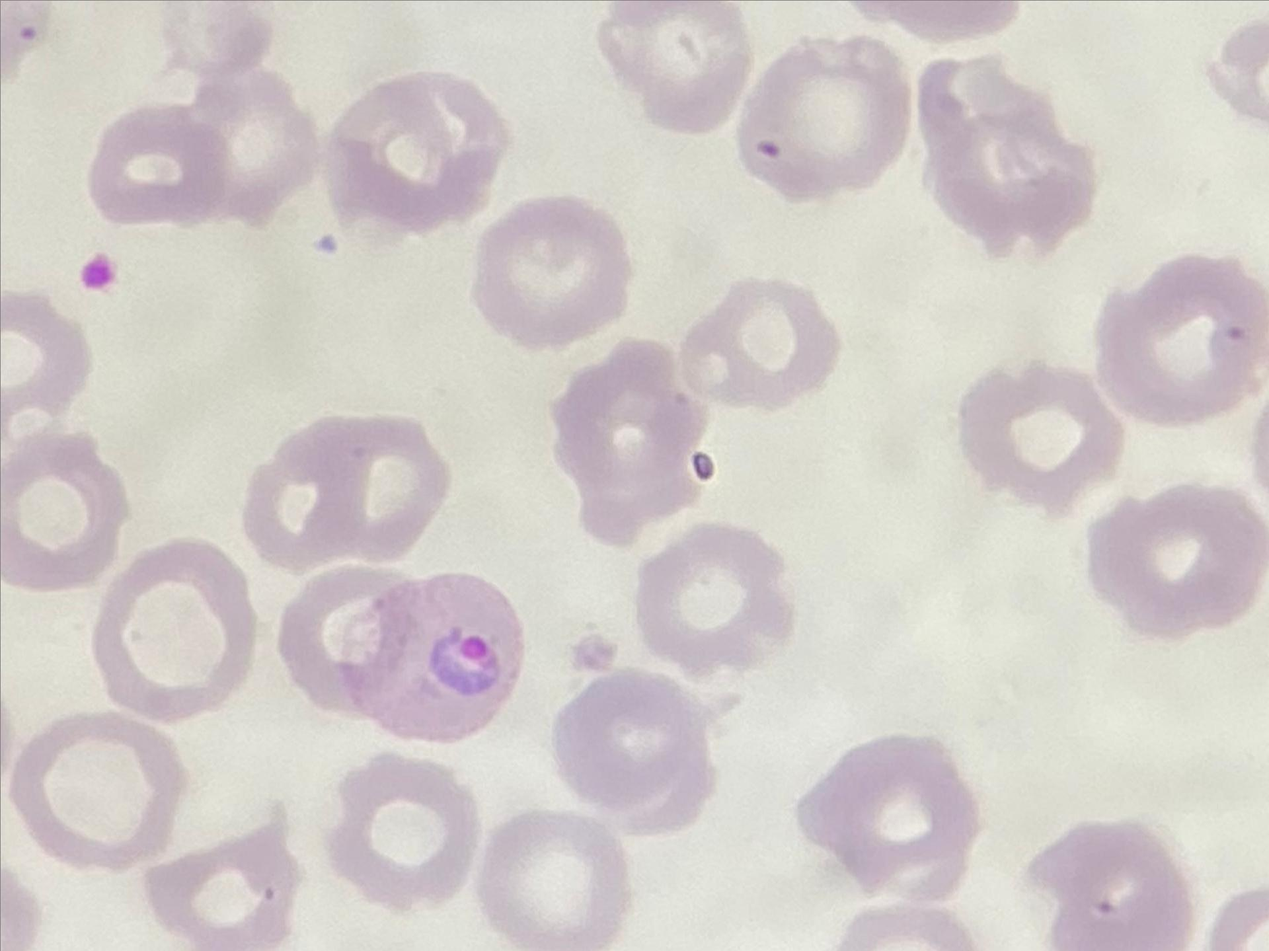Infected: (742, 206, 924, 383)
Uninfected: (170, 692, 345, 896), (560, 397, 718, 612), (758, 706, 940, 877), (289, 49, 469, 220), (1011, 221, 1171, 409), (2, 521, 173, 693), (1084, 78, 1259, 240), (828, 386, 1013, 534), (2, 307, 179, 461), (361, 754, 530, 912), (634, 591, 792, 756), (471, 267, 632, 427), (557, 115, 715, 277), (150, 437, 308, 595), (787, 36, 939, 196), (634, 0, 792, 151), (421, 538, 589, 675), (972, 0, 1125, 148), (842, 236, 993, 383), (79, 0, 251, 129), (947, 725, 1087, 878), (1135, 358, 1268, 518), (522, 816, 671, 951), (1044, 728, 1179, 846)
